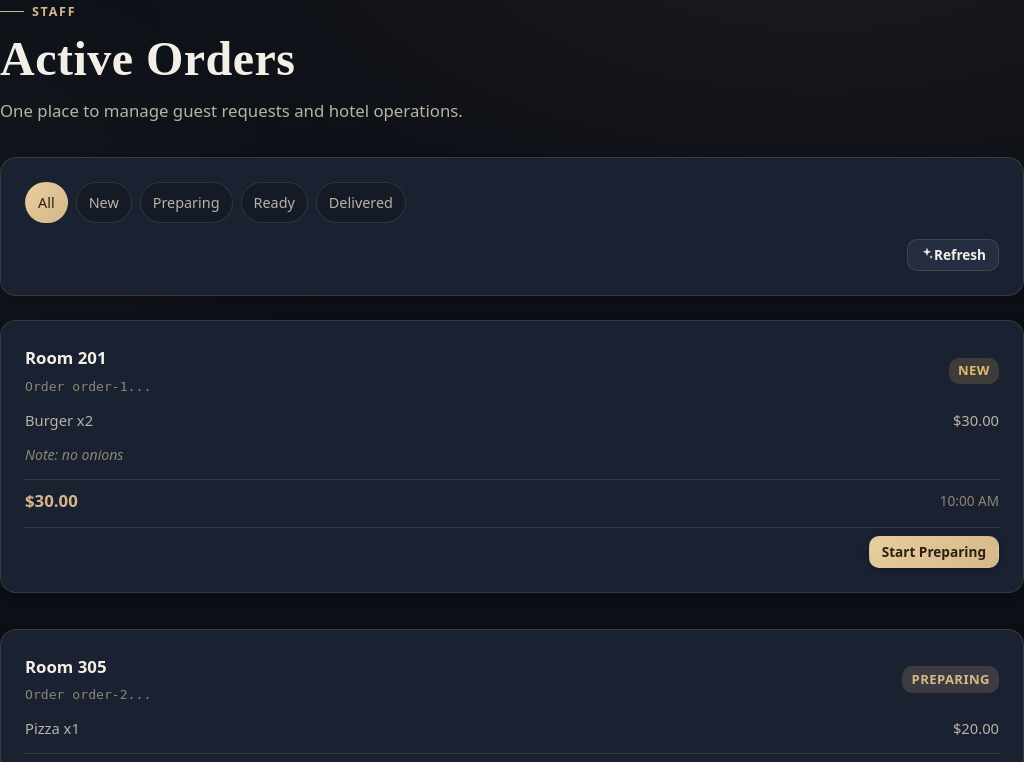
Test case: StaffOrdersView › shows a refresh button
Check: the text "Burger x2" is shown, box [25,409,93,432]
Click the button "Refresh" at [953, 255], box [907,239,999,271]
(page scrolled)
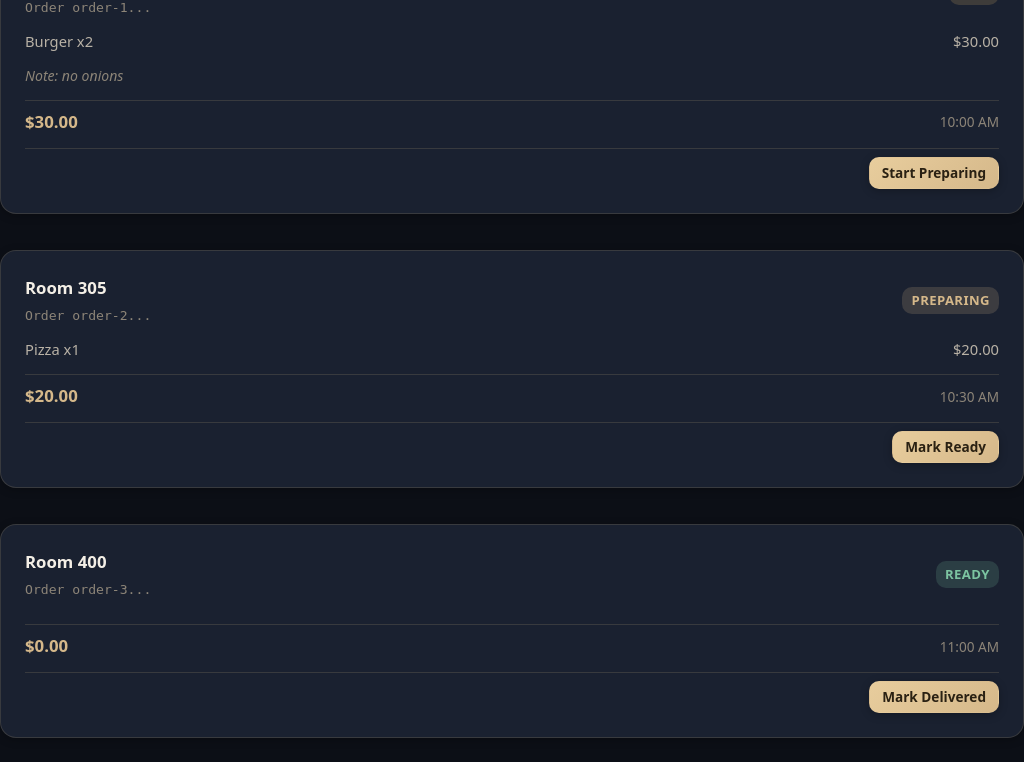
Check: the text "Room 400" is shown, box [25,550,106,573]
